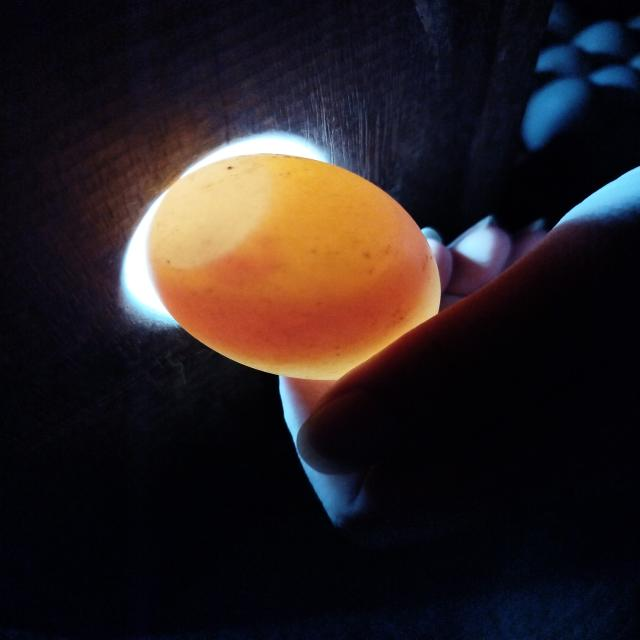Camara de Ar: (148, 155, 268, 268)
